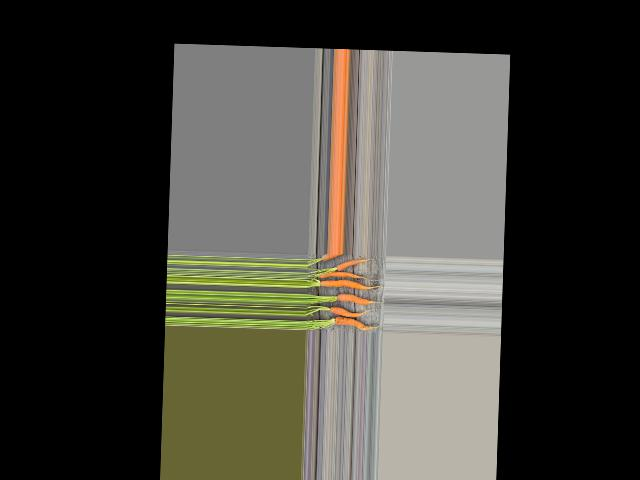carrot: (314, 252, 336, 264)
